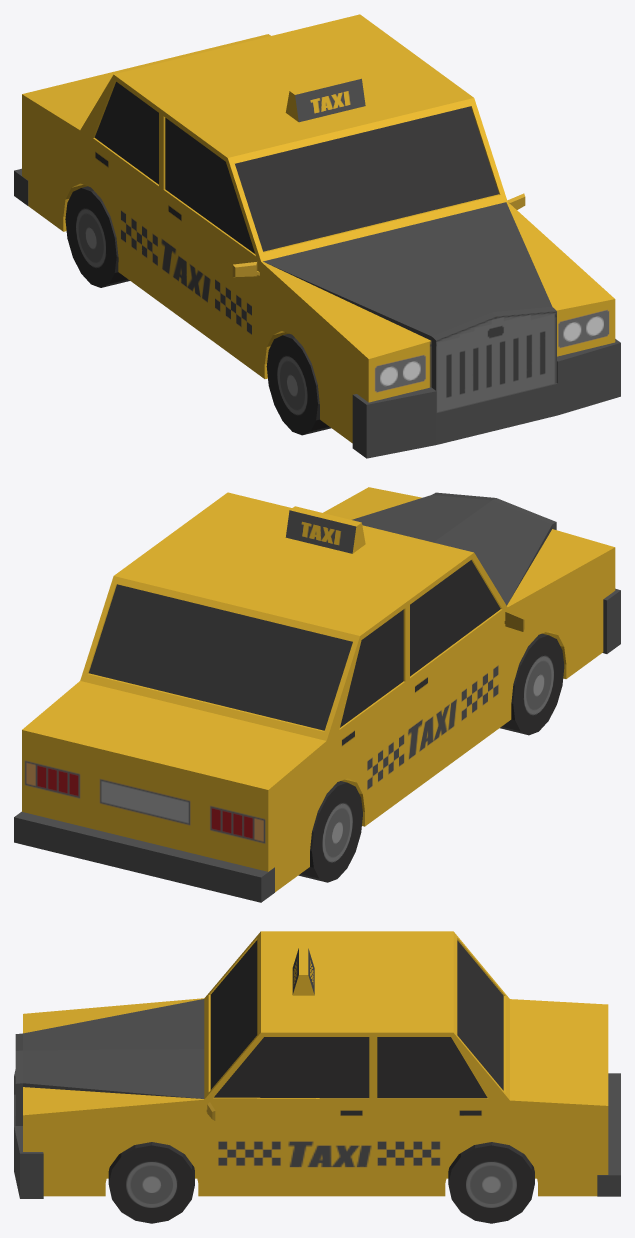
The model's file is taxi.gltf.
The picture shows the model from 3 angles, top to bottom: view 1: azimuth 30°, elevation 25°; view 2: azimuth 150°, elevation 25°; view 3: azimuth 270°, elevation 25°; orthographic projection. The views are drawn at different scales.
Parts seen in each view (by area): view 1: taxi; view 2: taxi; view 3: taxi.
Part boxes in pixels (x1,y1,x2,y2): taxi: [14, 14, 620, 458]; taxi: [14, 487, 620, 902]; taxi: [14, 931, 620, 1223].
Size of the model in its own units: 2.96 by 2.43 by 6.32.
Materials: 1 (1 with a texture image).
